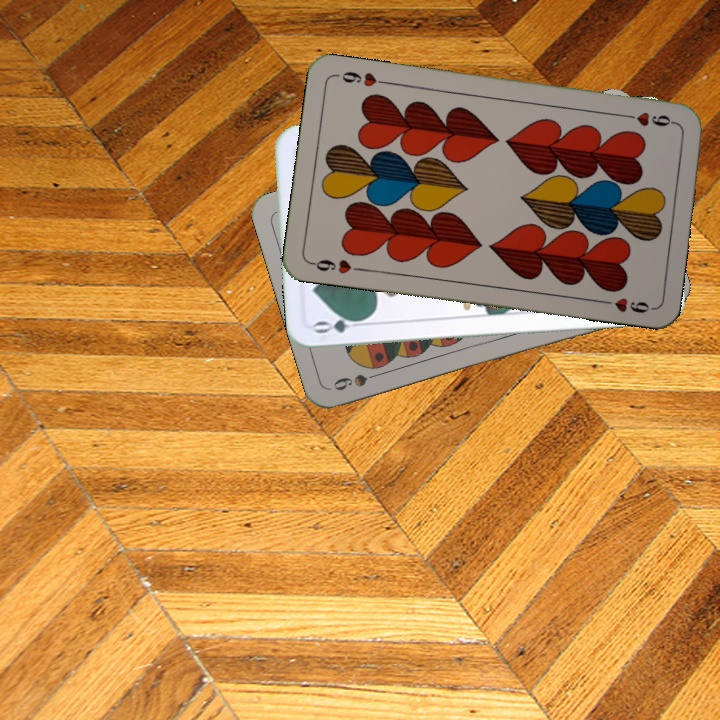GO: (311, 313, 370, 336)
H9: (307, 255, 366, 277), (619, 108, 678, 129)
S9: (328, 367, 387, 393)
